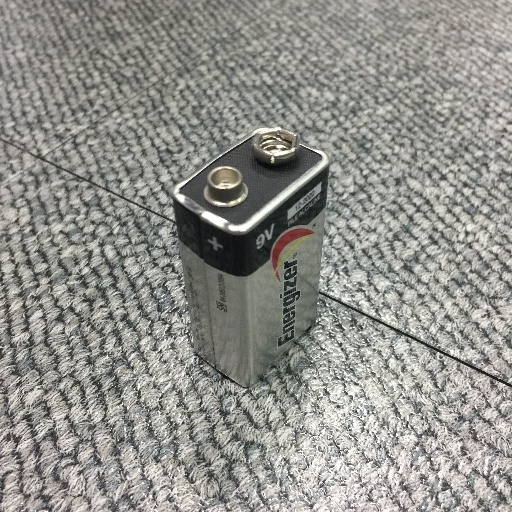Battery_3: (154, 117, 343, 401)
